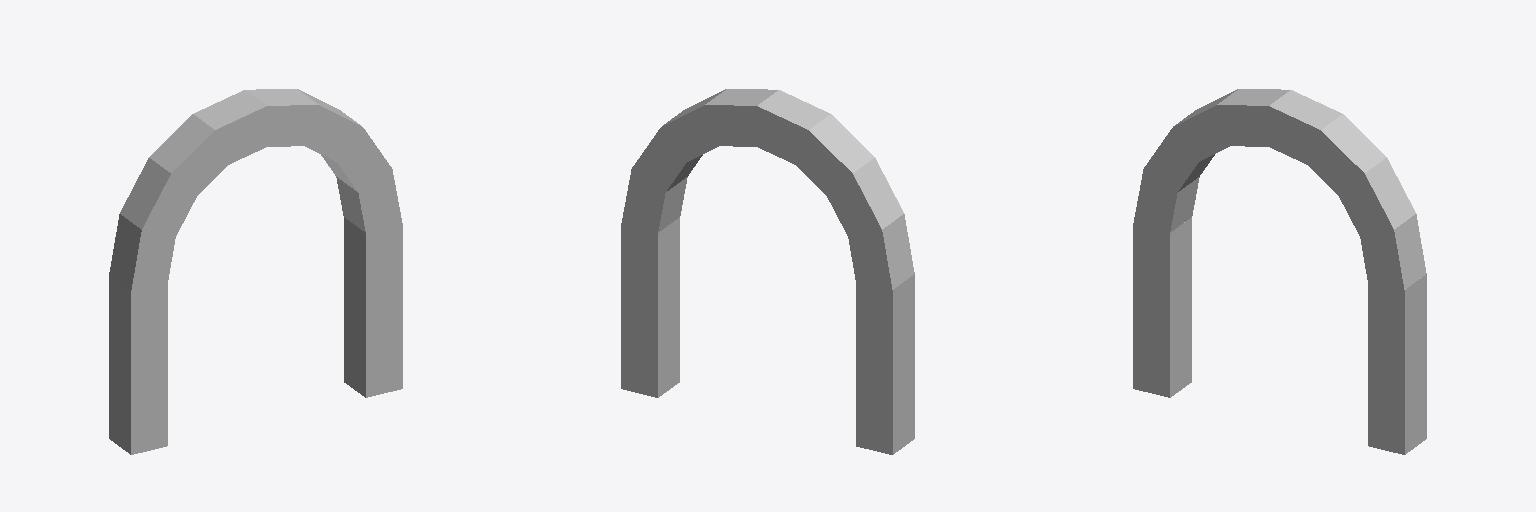
The model's file is WallArchTall.obj.
The picture shows the model from 3 angles: view 1: azimuth 30°, elevation 25°; view 2: azimuth 150°, elevation 25°; view 3: azimuth 330°, elevation 25°; orthographic projection.
Parts seen in each view (by area): view 1: WallArchTall; view 2: WallArchTall; view 3: WallArchTall.
Boxes of the visible parts, <box> form: WallArchTall: <box>109,89,402,454</box>; WallArchTall: <box>621,89,914,454</box>; WallArchTall: <box>1133,89,1426,454</box>.
Bounding box in the file's own units: 3.23 × 3.6 × 0.458.